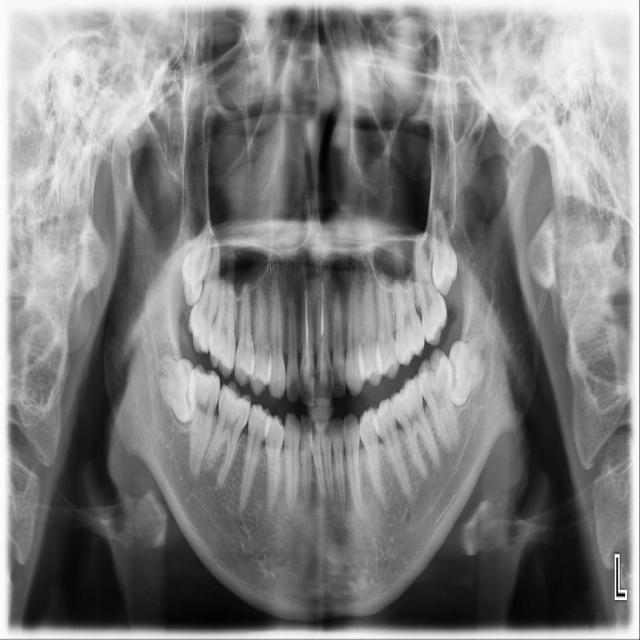Root Canal Treatment: (318, 275, 330, 358), (305, 294, 311, 354)
impacted tooth: (157, 349, 197, 421), (429, 207, 459, 297), (449, 333, 487, 404), (182, 227, 214, 304)
